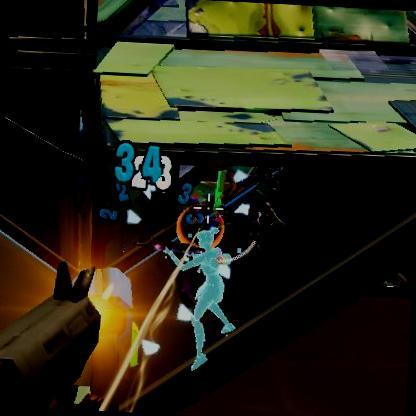person: (189, 230, 226, 356), (170, 183, 196, 292), (244, 168, 268, 242)
